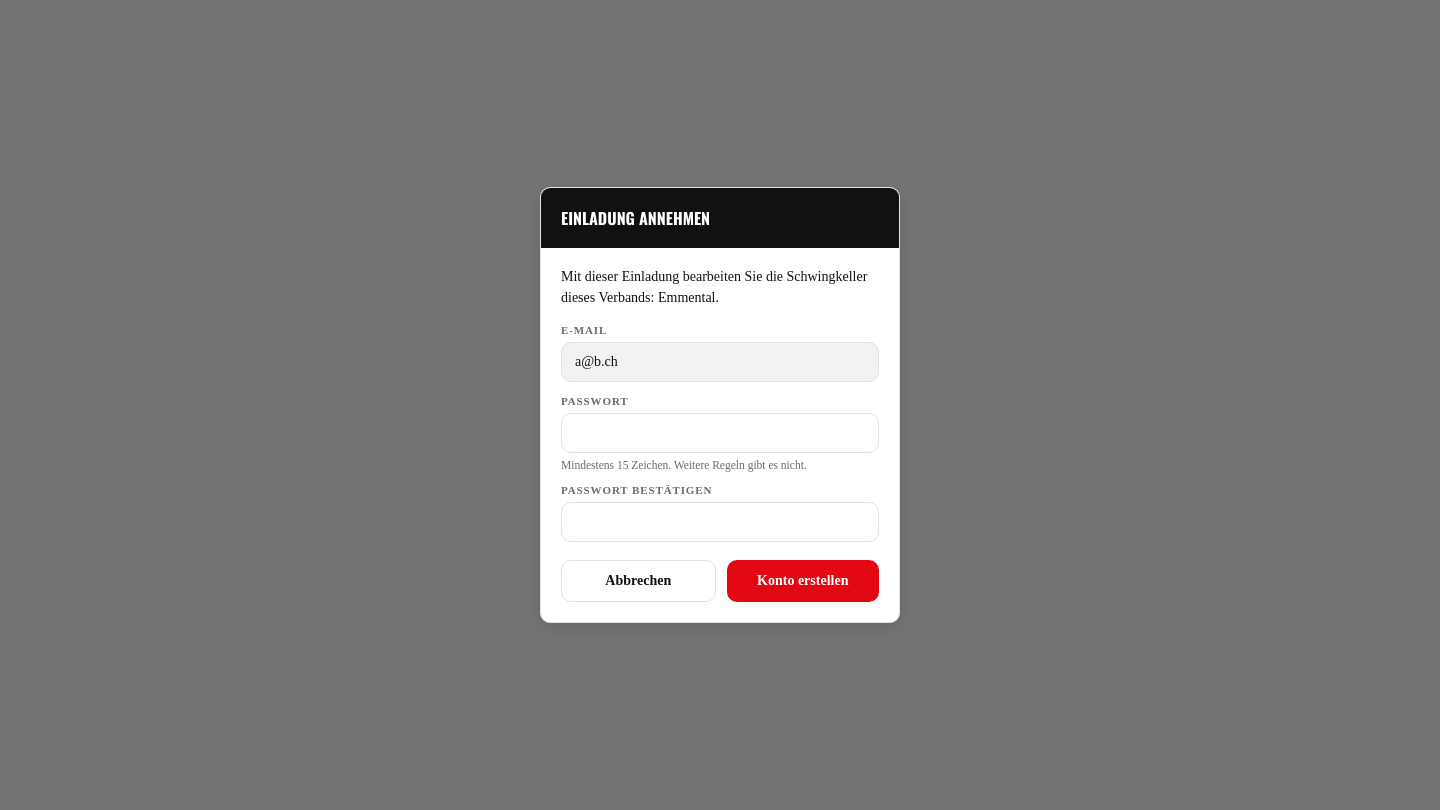
it: InviteDialog › shows the message for a unavailable failure and keeps the form
This screenshot has width=1440, height=810.
Type "a-long-enough-pw" into the password field labelled "Passwort" at (720, 433), box [561,413,879,453]
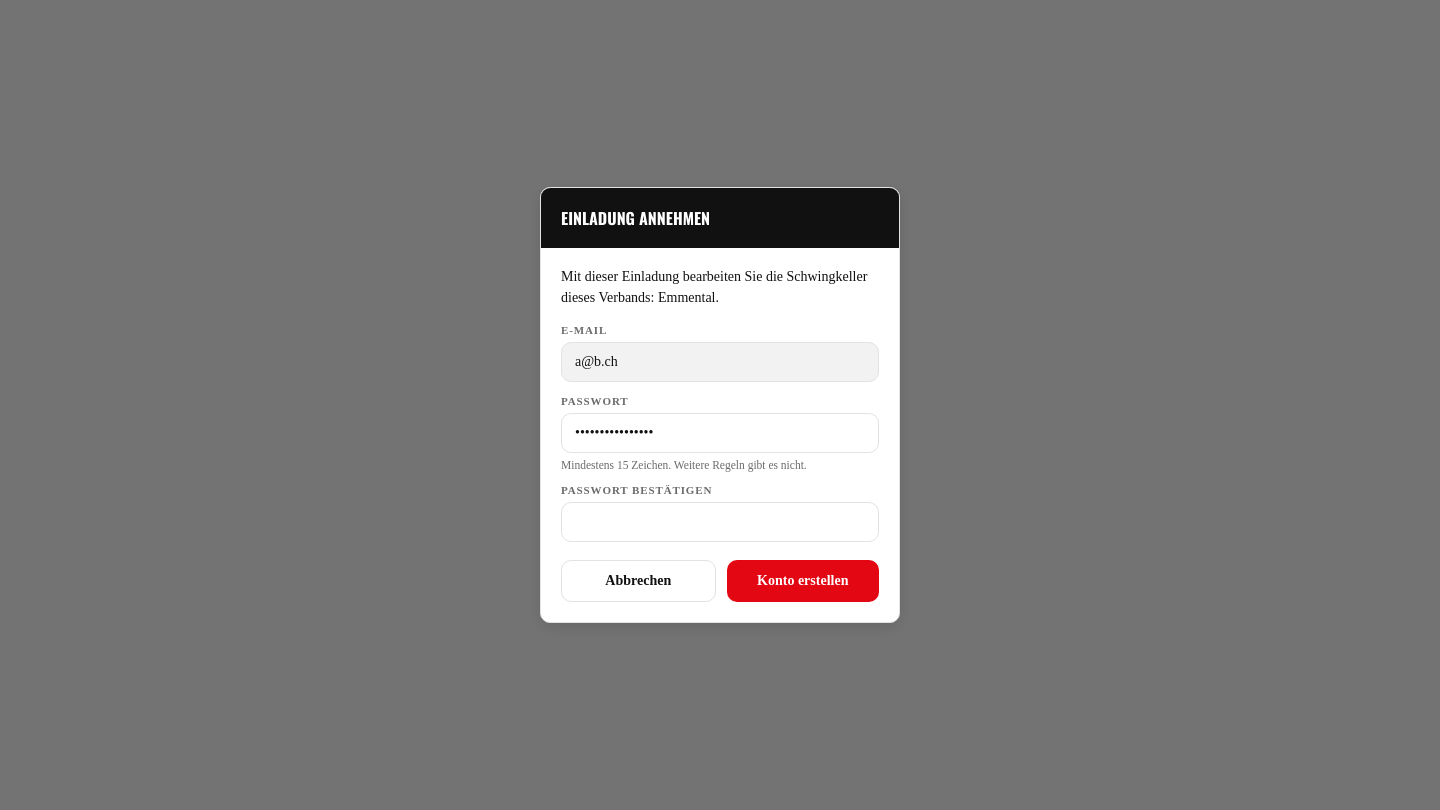
Type "a-long-enough-pw" into the password field labelled "Passwort bestätigen" at (720, 522), box [561,502,879,542]
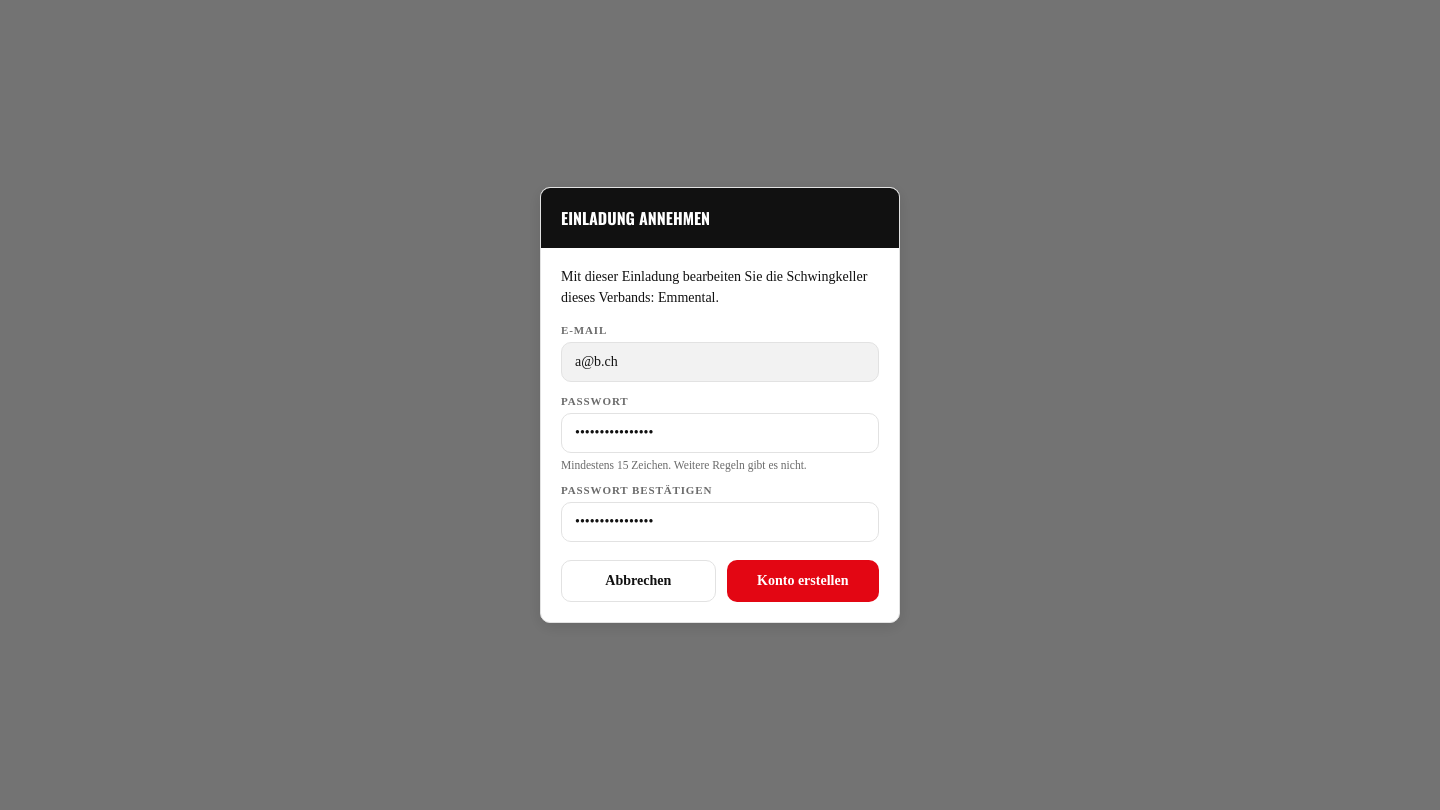
Click the button "Konto erstellen" at (803, 581), box [726,560,879,602]
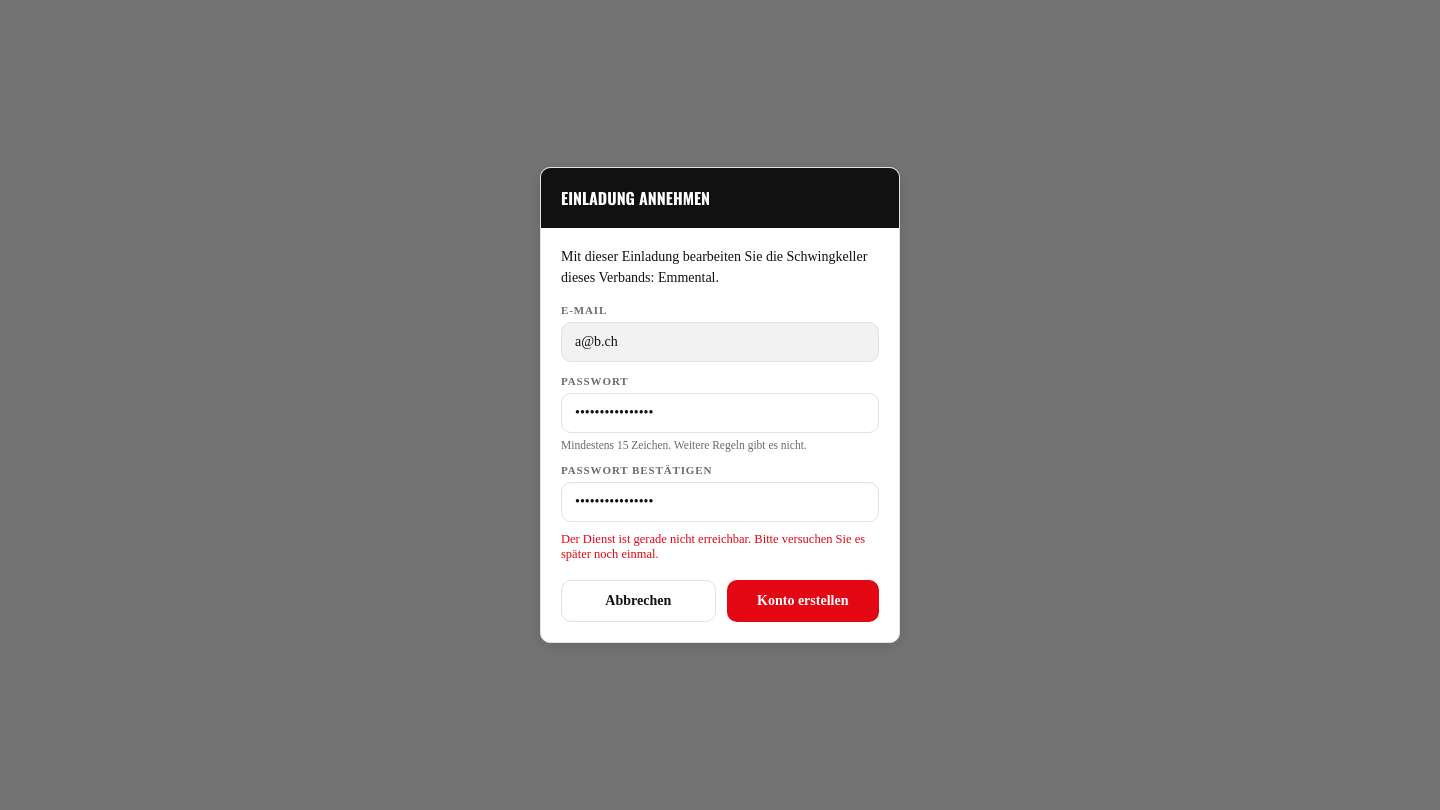
Expected: the button "Konto erstellen" is enabled, [726,580,879,622]
Now the message shows "Der Dienst ist gerade nicht erreichbar. Bitte versuchen Sie es später noch einmal.", box [561,532,865,561]
